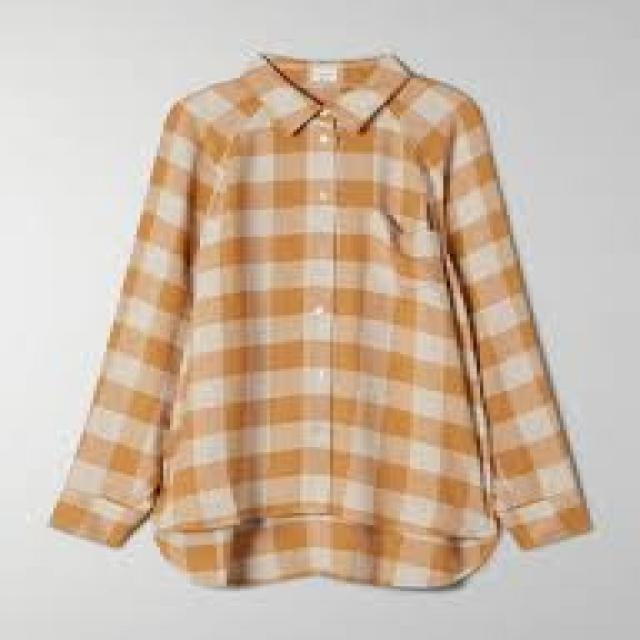plaid: (39, 41, 596, 594)
